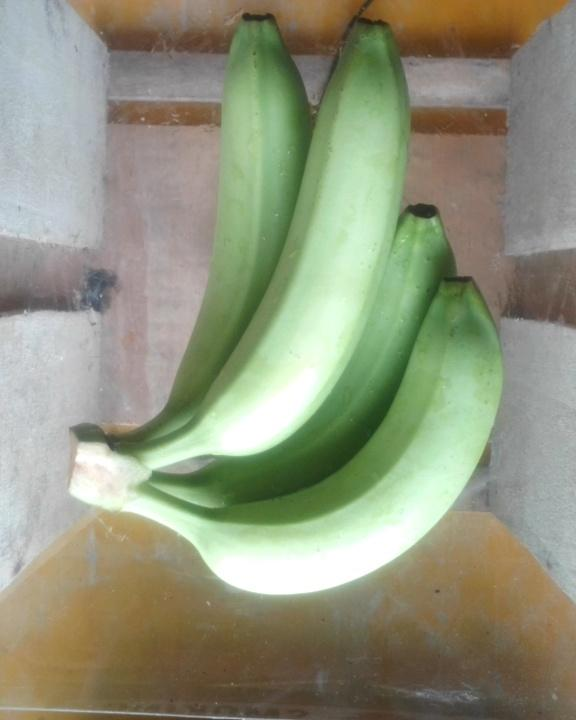SPOT: (46, 4, 544, 601)
